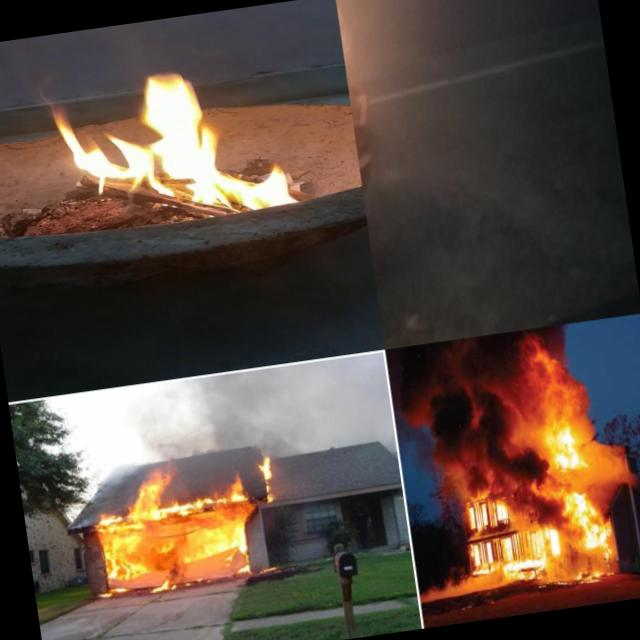fire: (24, 44, 310, 242), (90, 474, 256, 594), (463, 520, 551, 590), (562, 488, 618, 560), (544, 416, 586, 474), (463, 488, 512, 530), (552, 567, 618, 589), (252, 454, 278, 502)
smoke: (386, 330, 552, 502), (136, 357, 392, 461), (530, 322, 593, 422), (537, 464, 637, 498), (580, 410, 628, 470), (417, 570, 471, 602), (507, 484, 542, 524), (540, 493, 568, 535)
